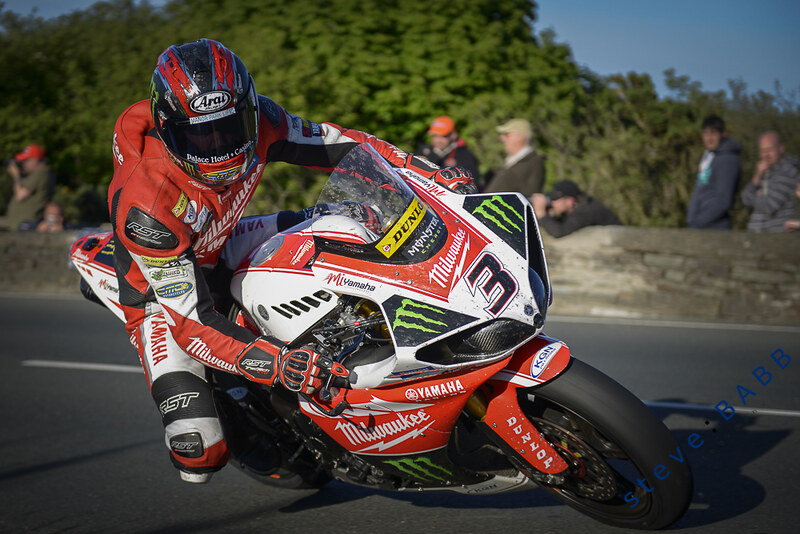helmet: (150, 38, 262, 195)
